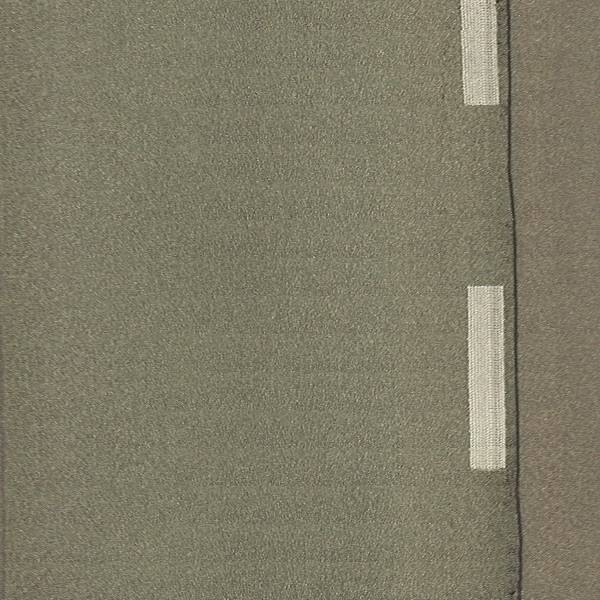road_damage: (504, 129, 531, 568)
